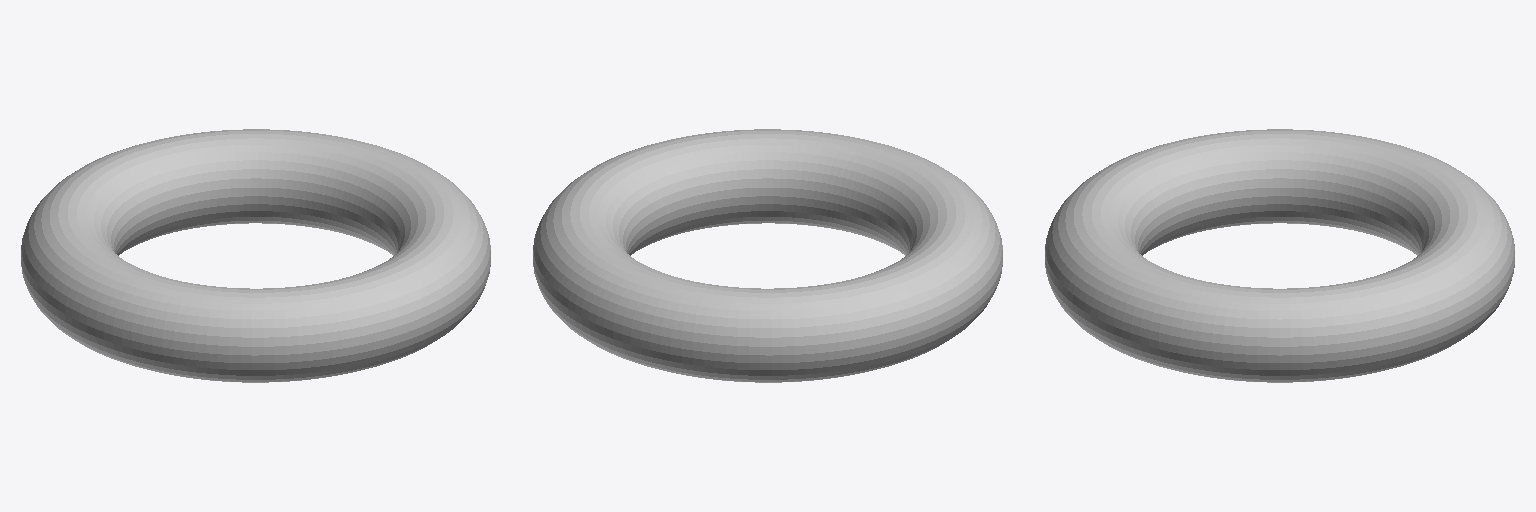
The model's file is torus_smooth.obj.
3 views of the same model, side by side, from view 1: azimuth 30°, elevation 25°; view 2: azimuth 150°, elevation 25°; view 3: azimuth 270°, elevation 25° (orthographic).
Visible parts, largest first — view 1: Torus.002; view 2: Torus.002; view 3: Torus.002.
Part boxes in pixels (bbox=[...]): Torus.002: bbox=[21, 129, 490, 382]; Torus.002: bbox=[533, 129, 1002, 382]; Torus.002: bbox=[1045, 129, 1514, 382].
Bounding box in the file's own units: 5.4 × 1.08 × 5.4.